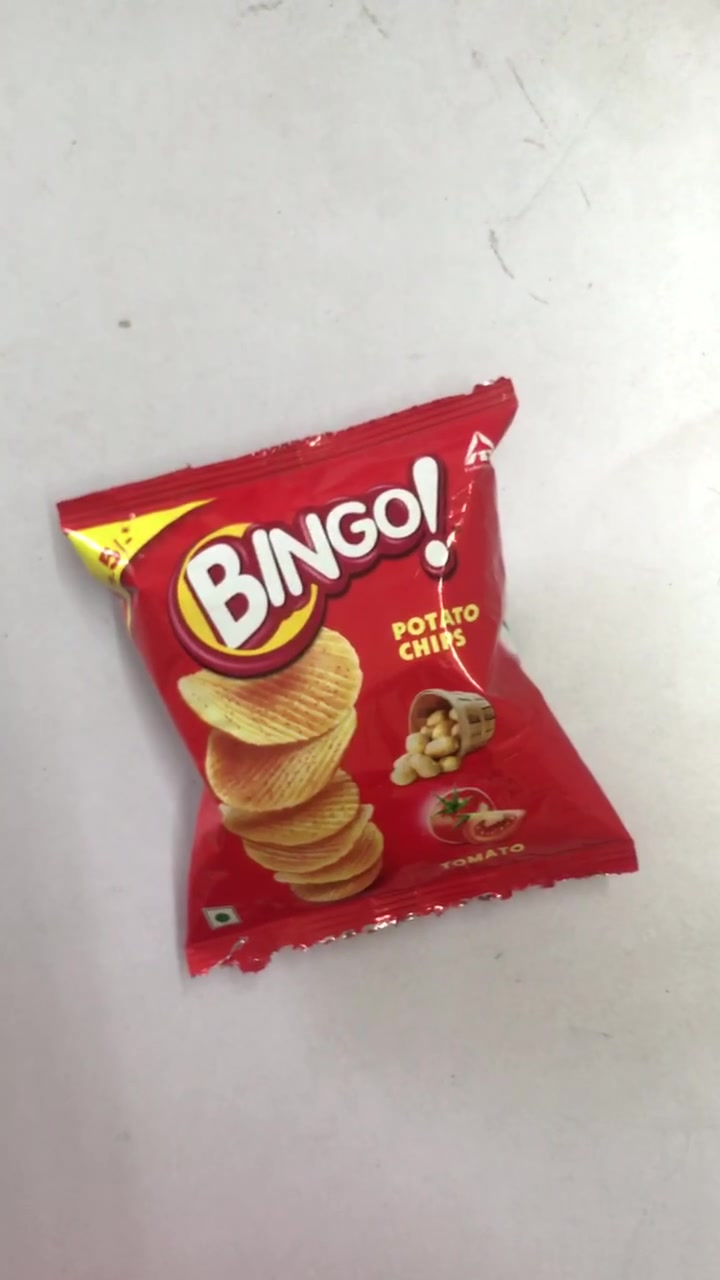Bingo: (58, 389, 639, 962)
